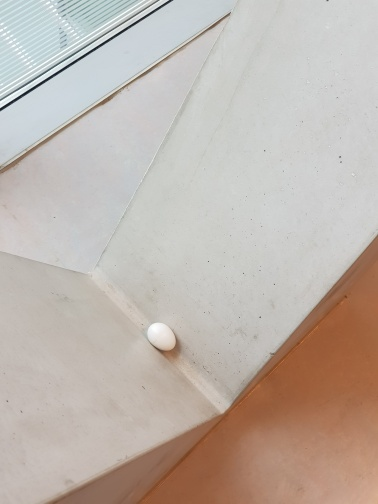egg: (144, 320, 180, 353)
